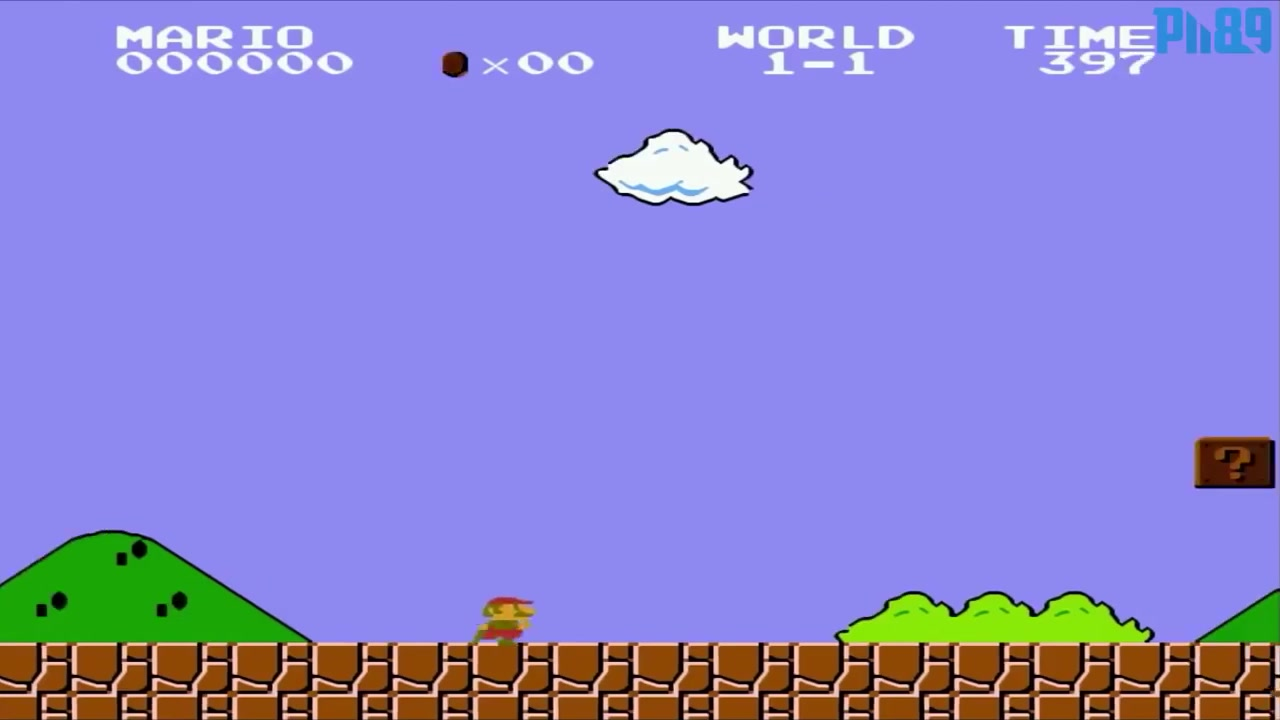mario: (456, 589, 538, 651)
